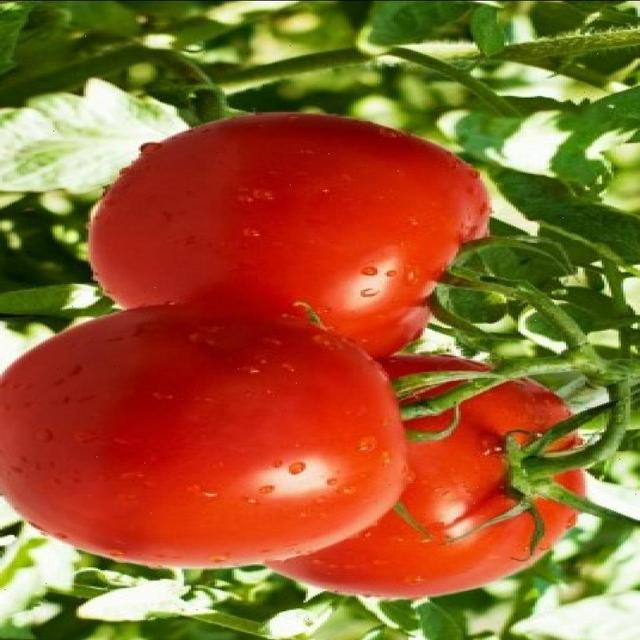Healthy Fruit: (128, 155, 295, 314)
